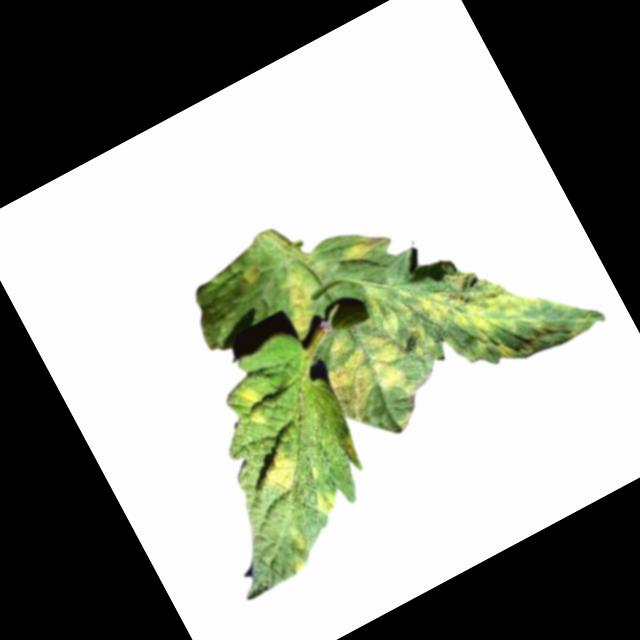Leaf_Mold: (374, 200, 608, 412), (309, 309, 426, 429), (262, 256, 336, 340), (252, 443, 313, 505), (337, 223, 391, 269), (273, 524, 318, 578), (230, 380, 274, 434), (310, 480, 347, 522), (240, 261, 266, 287)
